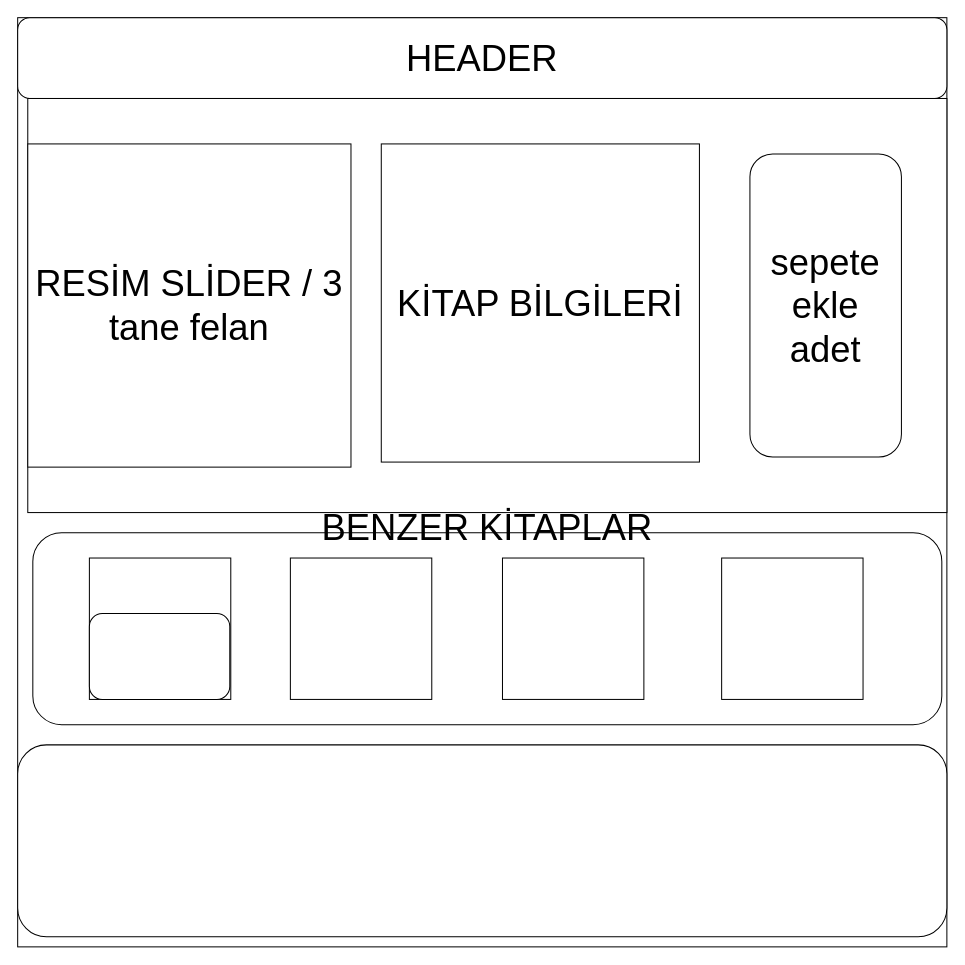
Image size: 965x965. Some labels were removed from this diagram. Here are the shapes that lost their labels. From the top down, the centre of each, then its label:
the point at 159,656: hover /info
the point at 482,840: FOOTER
